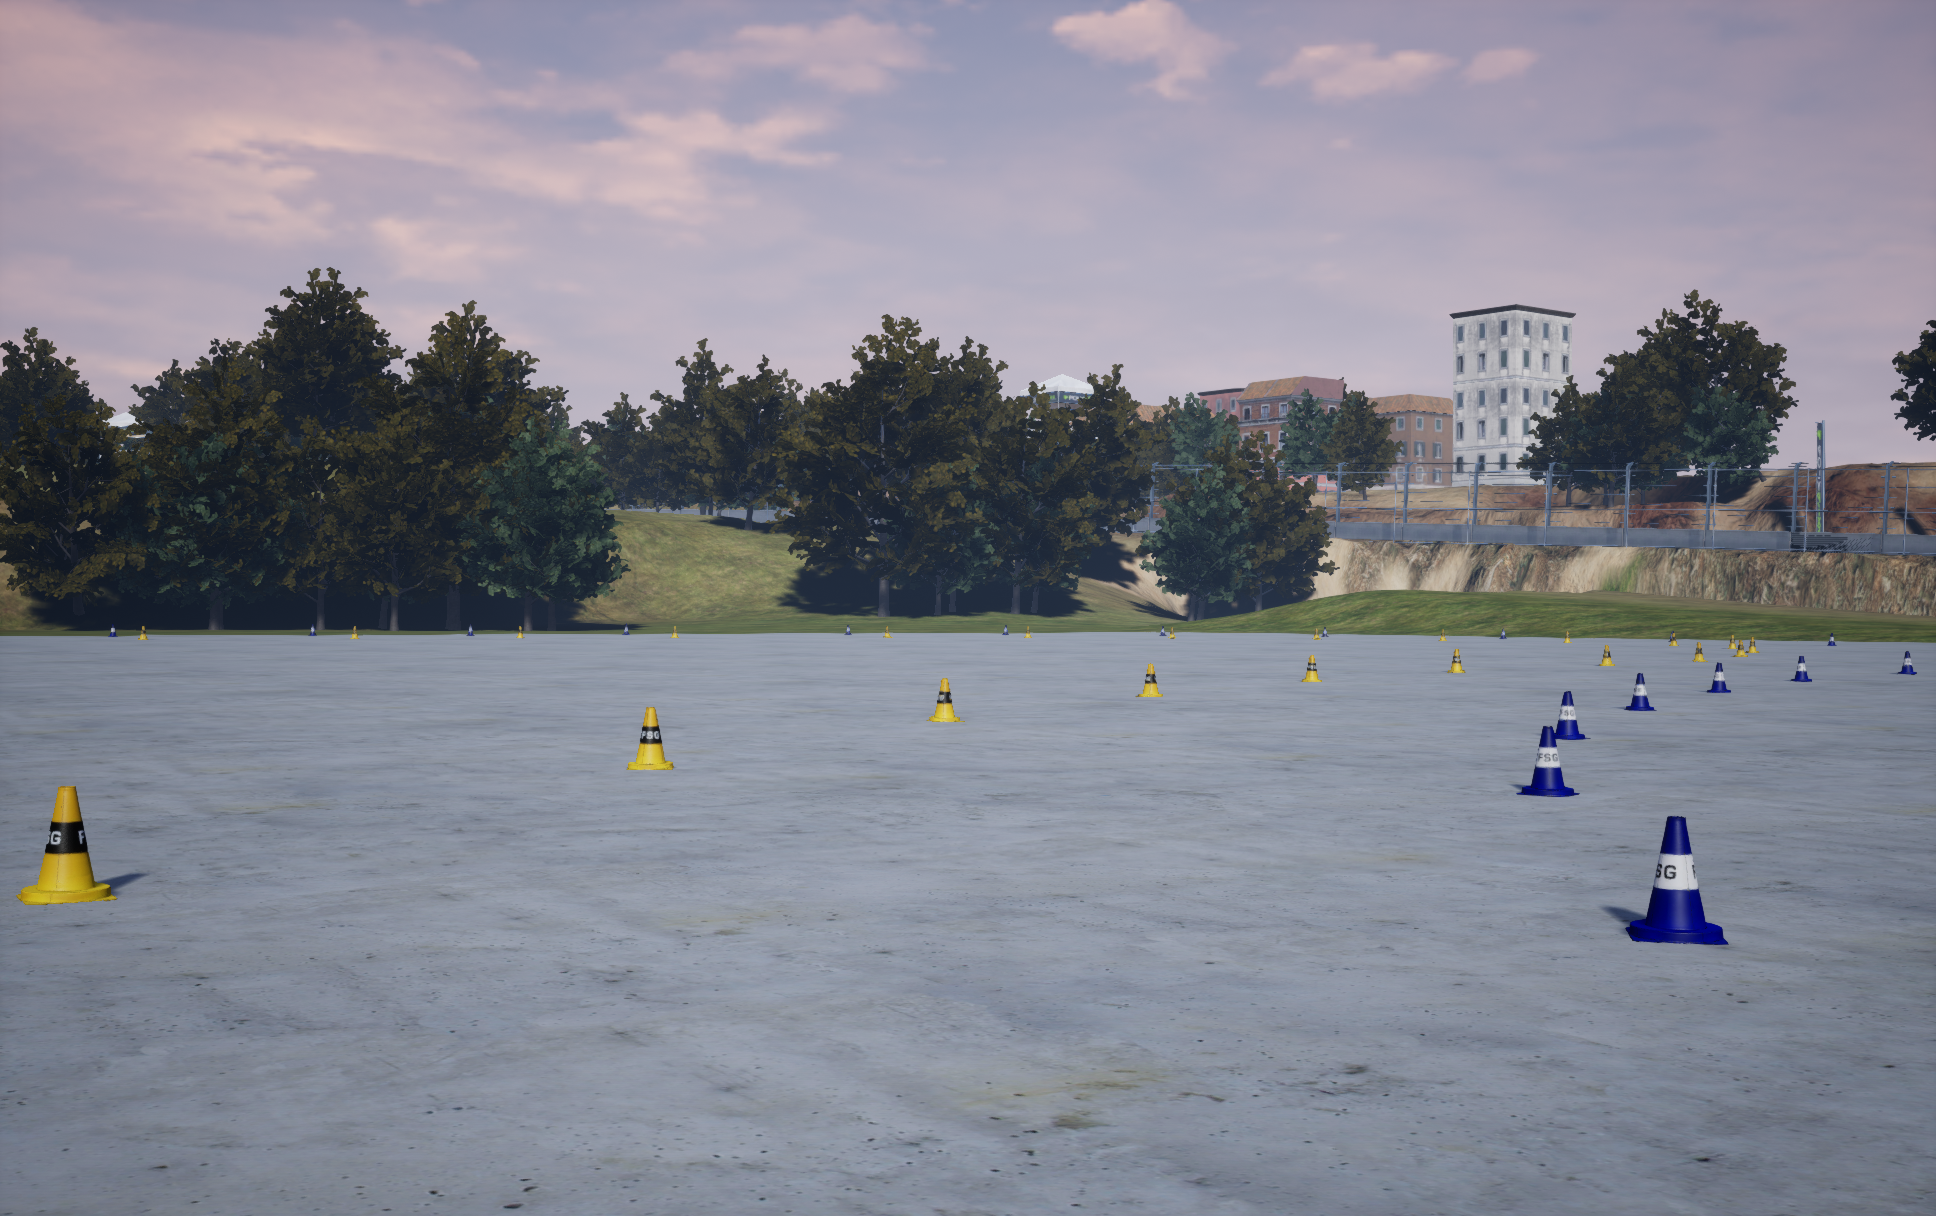blue: (15, 786, 118, 904), (626, 707, 672, 769), (926, 678, 964, 721), (1135, 663, 1161, 696), (1301, 656, 1321, 681), (1447, 649, 1465, 672), (1598, 644, 1614, 665)
yellow: (1625, 815, 1729, 944), (1516, 726, 1579, 796), (1554, 691, 1590, 740), (1624, 672, 1656, 710), (1708, 663, 1730, 692), (1790, 656, 1811, 681), (1898, 651, 1916, 674)
